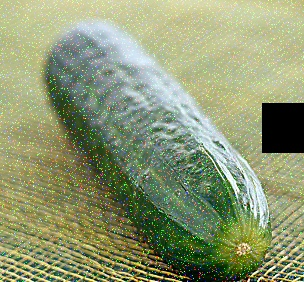cucumber: (44, 20, 271, 280)
